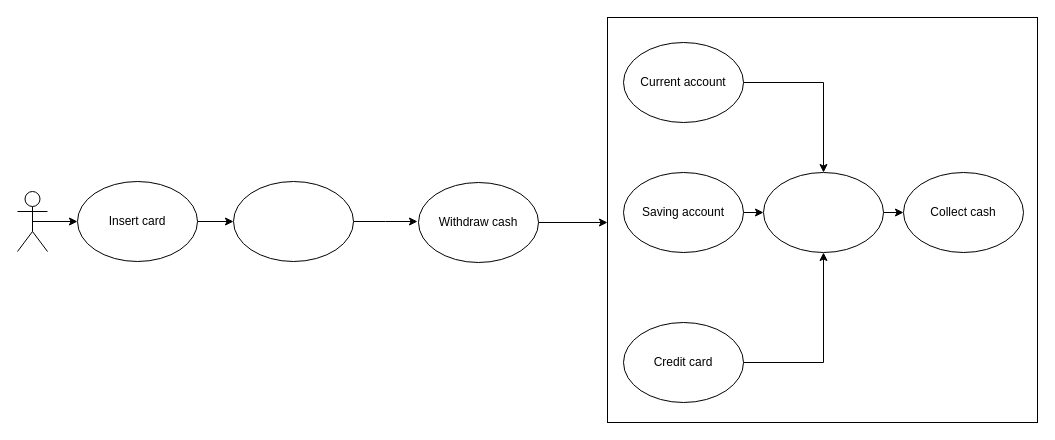
The diagram is 1055 pixels wide and 440 high, and some of its shapes have lost their labels. Each missing label, with the box of its shape:
Actor: (16, 190, 48, 252)
Enter amount & enter pin: (762, 172, 884, 252)
Select Language: (232, 180, 354, 262)
